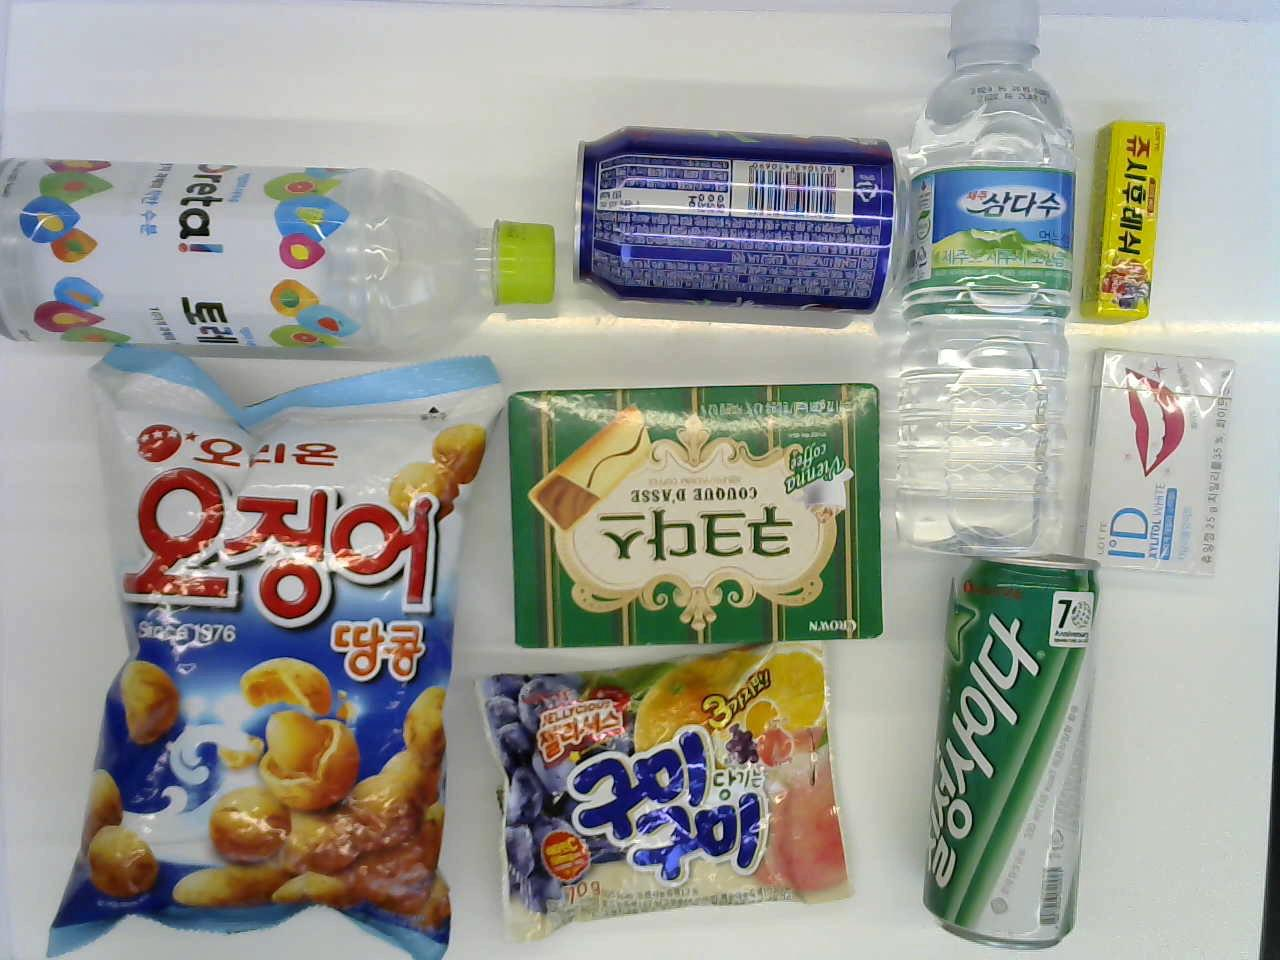ID_gum: (1080, 351, 1253, 575)
cidar: (916, 553, 1097, 953)
couque_coffee: (507, 380, 886, 658)
gumi_gumi: (475, 647, 853, 924)
juicyfresh: (1086, 110, 1180, 333)
samdasu: (891, 3, 1081, 549)
squid_peanut: (50, 359, 499, 941)
toreta: (1, 160, 563, 357)
welchs: (575, 122, 900, 322)
